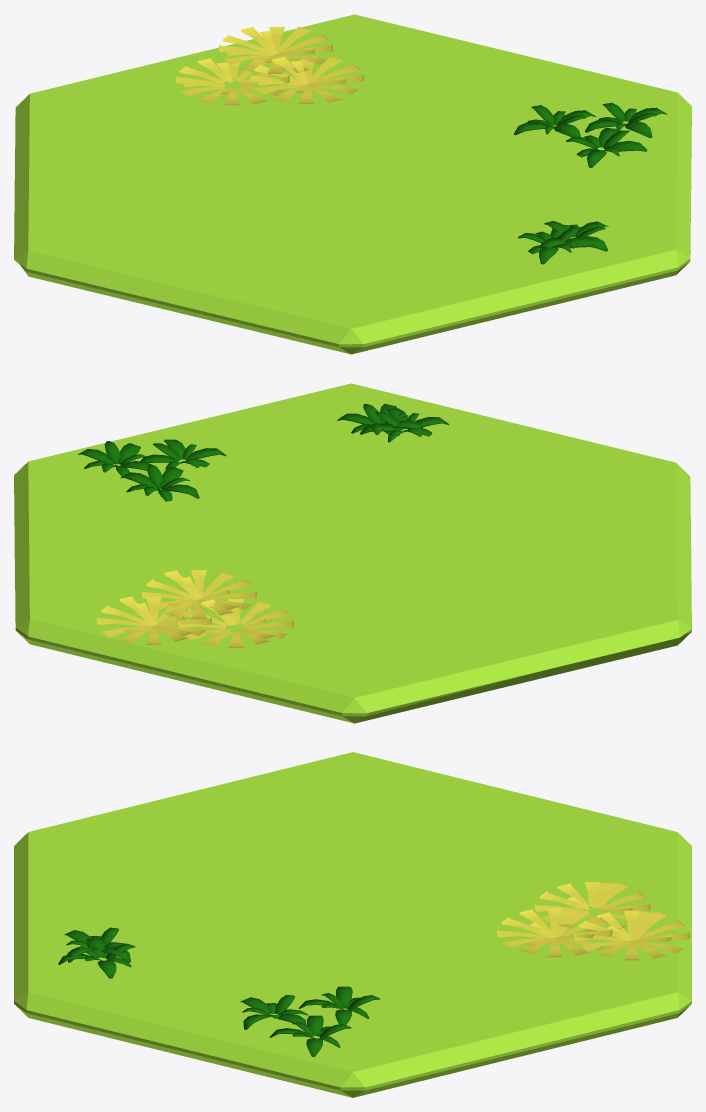
The model's file is hexagonTerrain2.fbx.
3 views of the same model, one above another, from view 1: azimuth 30°, elevation 25°; view 2: azimuth 150°, elevation 25°; view 3: azimuth 270°, elevation 25° (orthographic).
Visible parts, largest first — view 1: Cylinder.001; view 2: Cylinder.001; view 3: Cylinder.001.
Boxes of the visible parts, box(x1,y1,x2,y2) form: Cylinder.001: box(14, 14, 691, 354); Cylinder.001: box(14, 383, 691, 723); Cylinder.001: box(14, 752, 691, 1097).
Size of the model in its own units: 115 by 6.18 by 100.
